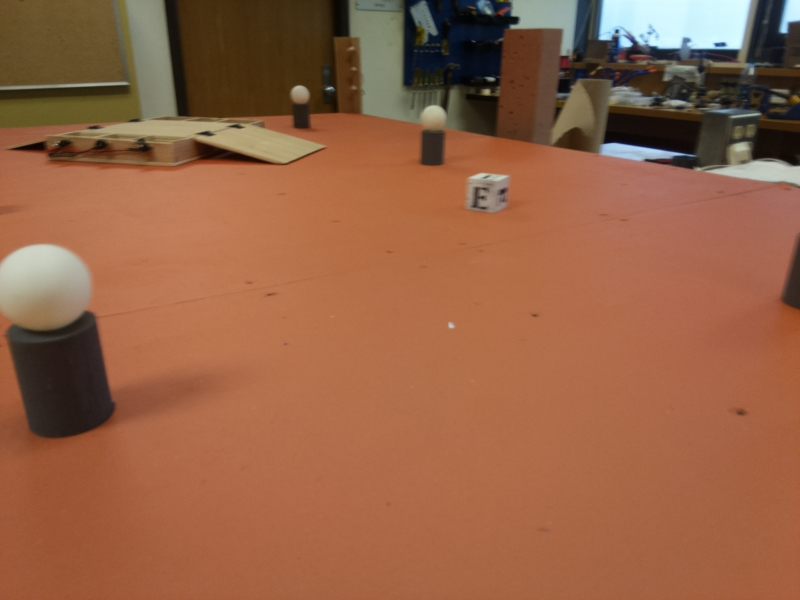blockE: (465, 174, 509, 213)
corner: (337, 38, 362, 111)
obstacle: (6, 236, 113, 445), (413, 105, 446, 170), (291, 83, 311, 128)
side: (48, 138, 163, 165)
slope: (192, 128, 313, 169)
